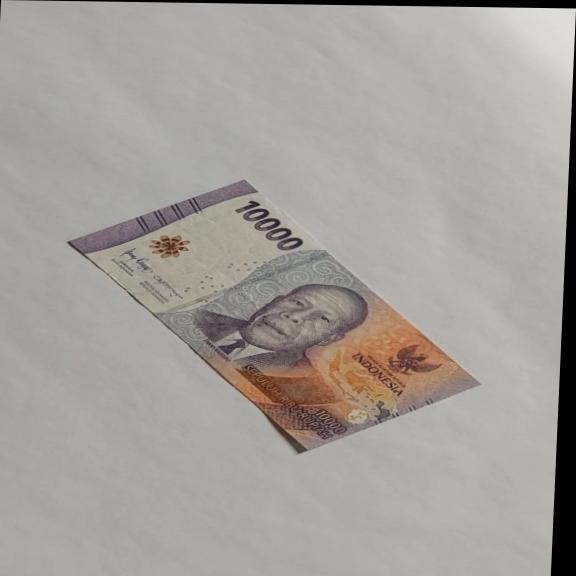Kertas: (57, 176, 492, 457), (231, 199, 307, 252)
